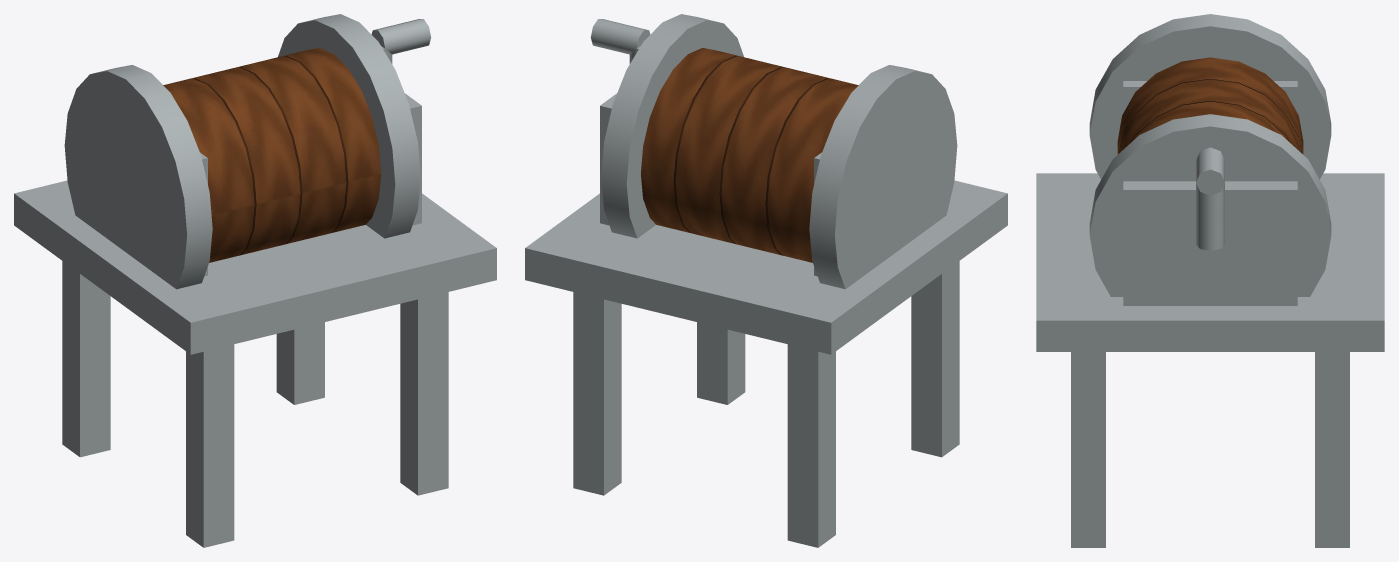
The model's file is fortified-compound-expansion-barrier-counterweight-afdea4eb__27119.glb.
3 views of the same model, side by side, from view 1: azimuth 30°, elevation 25°; view 2: azimuth 150°, elevation 25°; view 3: azimuth 270°, elevation 25° (orthographic).
Visible parts, largest first — view 1: barrier-counterweight; view 2: barrier-counterweight; view 3: barrier-counterweight.
Part boxes in pixels (<box>): barrier-counterweight: <box>14,14,496,547</box>; barrier-counterweight: <box>525,14,1007,547</box>; barrier-counterweight: <box>1036,14,1384,547</box>.
Size of the model in its own units: 0.63 by 0.784 by 0.6001.
2 materials, 1 textured.
